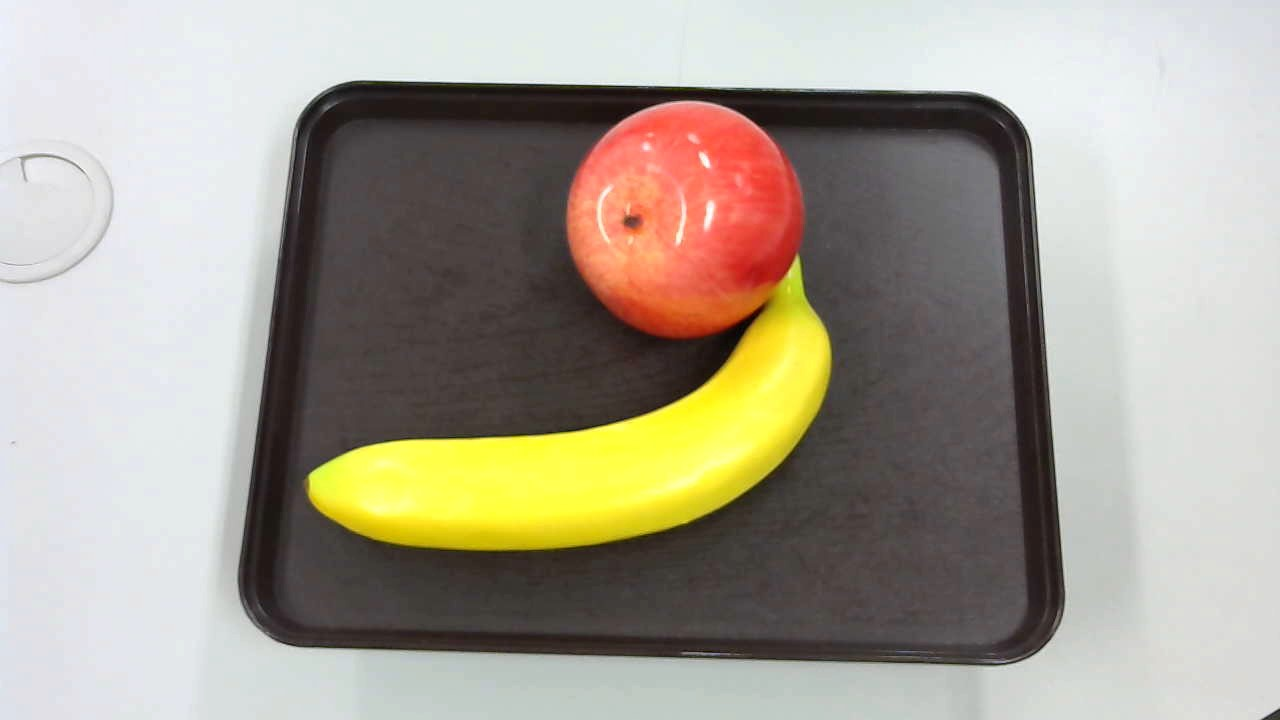banana: (296, 293, 856, 551)
red apple: (559, 98, 803, 334)
